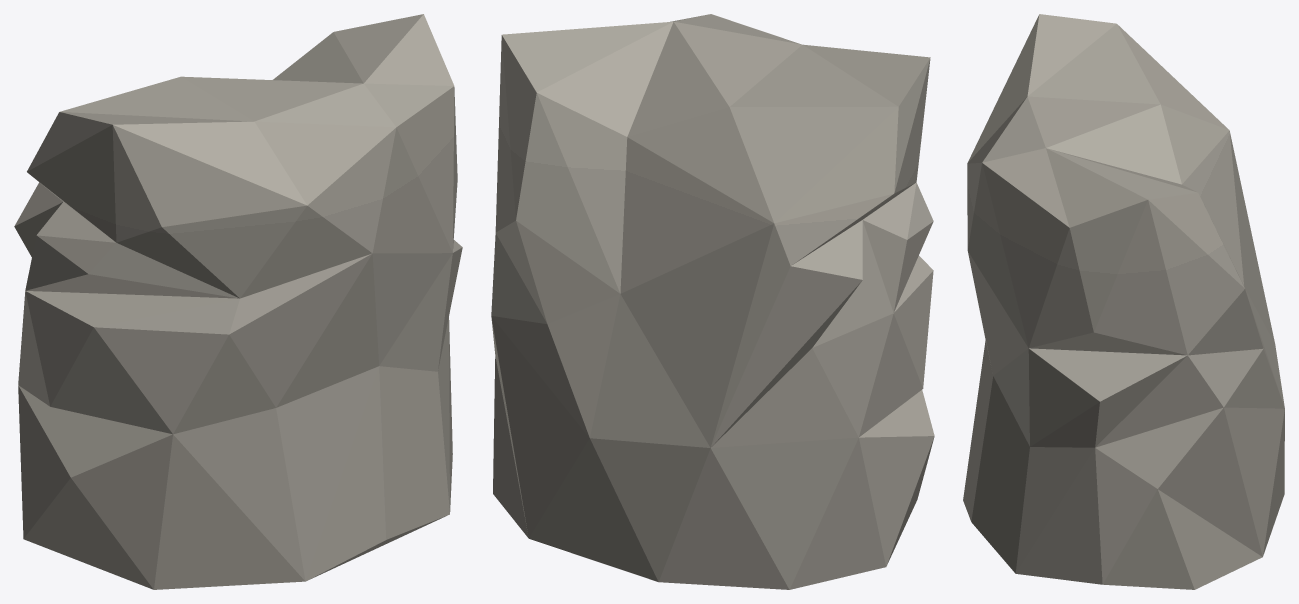
File: YN_Pillar2.fbx
3 renders of one model, left to right at view 1: azimuth 30°, elevation 25°; view 2: azimuth 150°, elevation 25°; view 3: azimuth 270°, elevation 25°, orthographic. The views are drawn at different scales.
Parts seen in each view (by area): view 1: Pillar2; view 2: Pillar2; view 3: Pillar2.
Boxes of the visible parts, x1,y1,x2,y2 form: Pillar2: (14, 14, 462, 589); Pillar2: (491, 14, 934, 589); Pillar2: (963, 14, 1284, 589).
Bounding box in the file's own units: 1.63 × 1.76 × 1.22.
